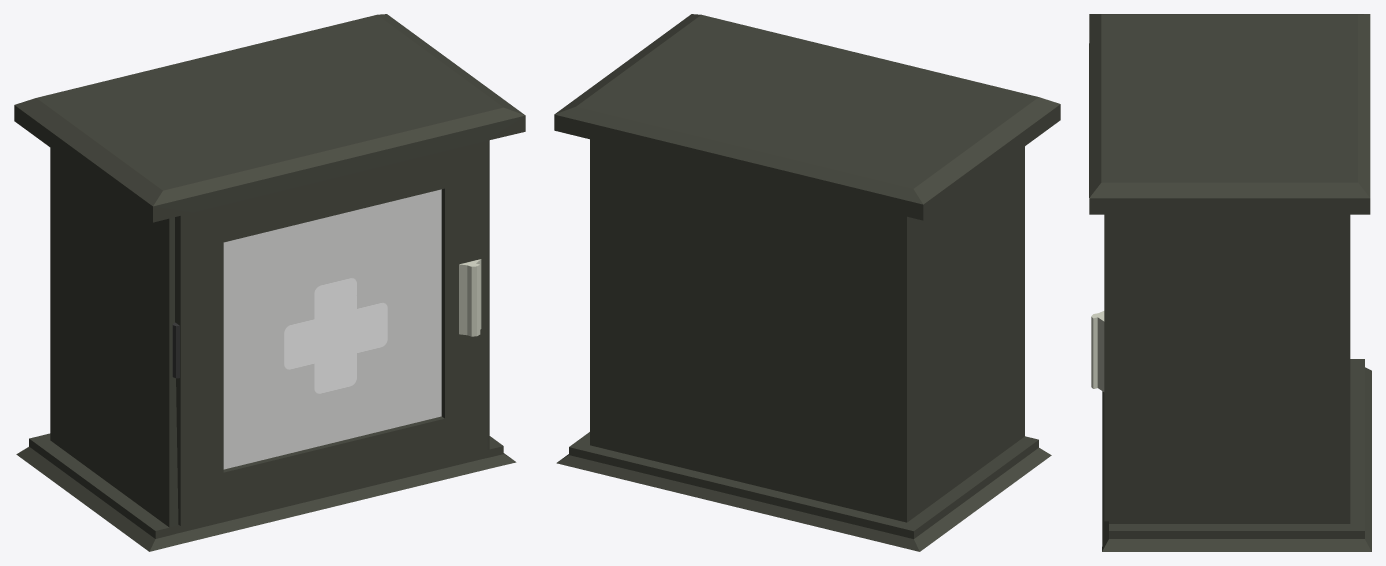
The model's file is MedicineCabinet.fbx.
The picture shows the model from 3 angles, left to right: view 1: azimuth 30°, elevation 25°; view 2: azimuth 150°, elevation 25°; view 3: azimuth 270°, elevation 25°; orthographic projection. The views are drawn at different scales.
Visible parts, largest first — view 1: MedicineCabinet_Base, MedicineCabinet_Glass, MedicineCabinet_Door, MedicineCabinet_Handle; view 2: MedicineCabinet_Base; view 3: MedicineCabinet_Base, MedicineCabinet_Door, MedicineCabinet_Handle.
Boxes of the visible parts, left/top/right/bottom form: MedicineCabinet_Base: left=14, top=14, right=525, bottom=551; MedicineCabinet_Glass: left=223, top=189, right=441, bottom=469; MedicineCabinet_Door: left=175, top=141, right=487, bottom=525; MedicineCabinet_Handle: left=459, top=259, right=481, bottom=336; MedicineCabinet_Base: left=554, top=14, right=1060, bottom=551; MedicineCabinet_Base: left=1089, top=14, right=1371, bottom=551; MedicineCabinet_Door: left=1104, top=214, right=1108, bottom=521; MedicineCabinet_Handle: left=1091, top=311, right=1104, bottom=391.
Bounding box in the file's own units: 266 × 244 × 173.
